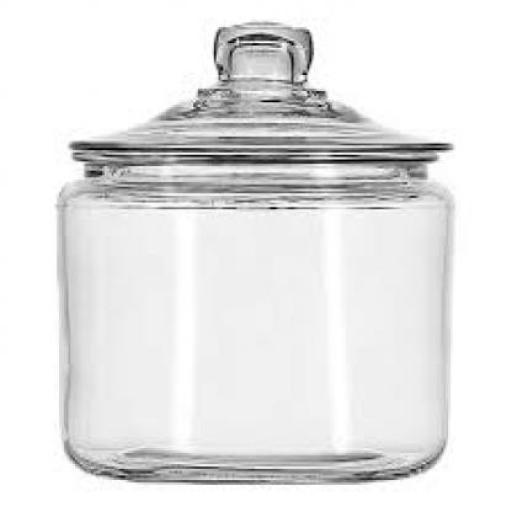glass: (54, 18, 456, 480)
